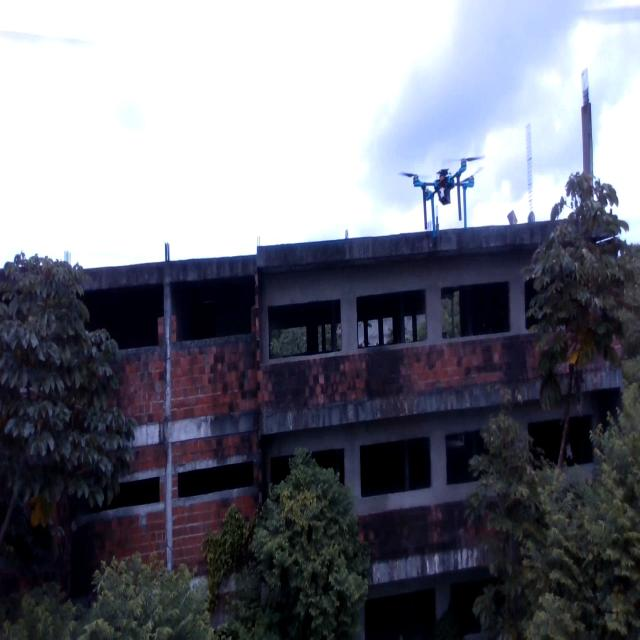-uav-: (402, 142, 486, 256)
